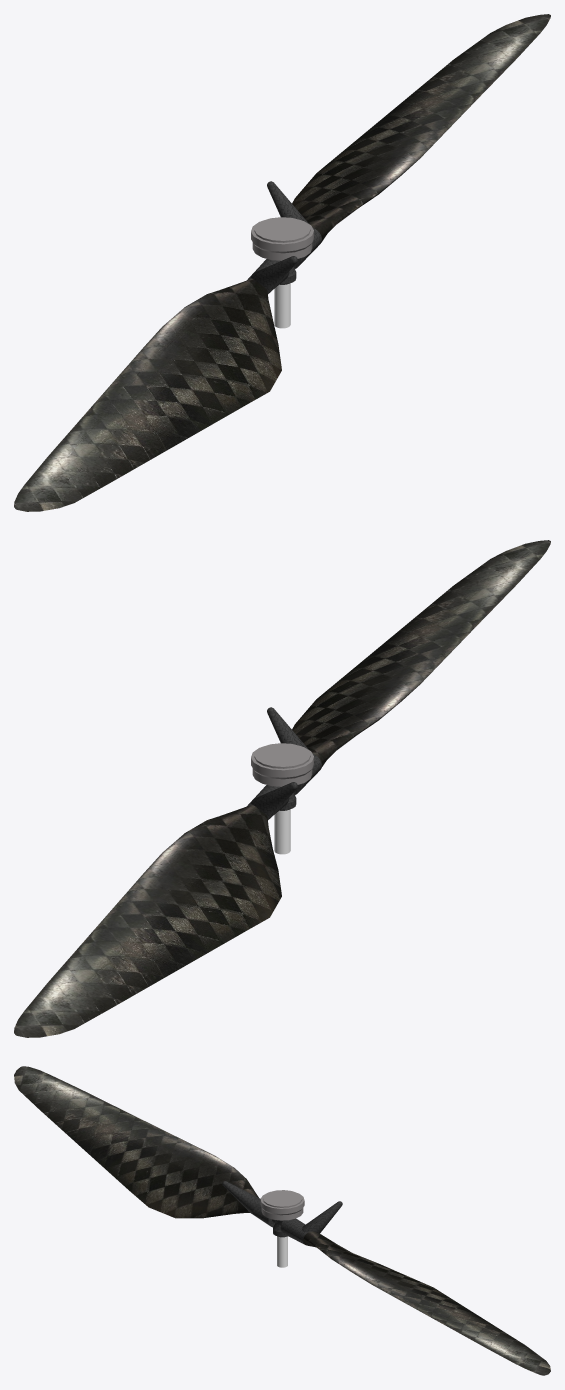
File: rotor_lower.glb
The picture shows the model from 3 angles, top to bottom: view 1: azimuth 30°, elevation 25°; view 2: azimuth 210°, elevation 25°; view 3: azimuth 270°, elevation 25°; orthographic projection. The views are drawn at different scales.
Visible parts, largest first — view 1: rotor_lower; view 2: rotor_lower; view 3: rotor_lower.
Boxes of the visible parts, left/top/right/bottom form: rotor_lower: left=14, top=14, right=550, bottom=511; rotor_lower: left=14, top=540, right=550, bottom=1037; rotor_lower: left=14, top=1066, right=550, bottom=1375.
Size of the model in its own units: 0.9864 by 0.1101 by 0.7241.
4 materials, 2 textured.
